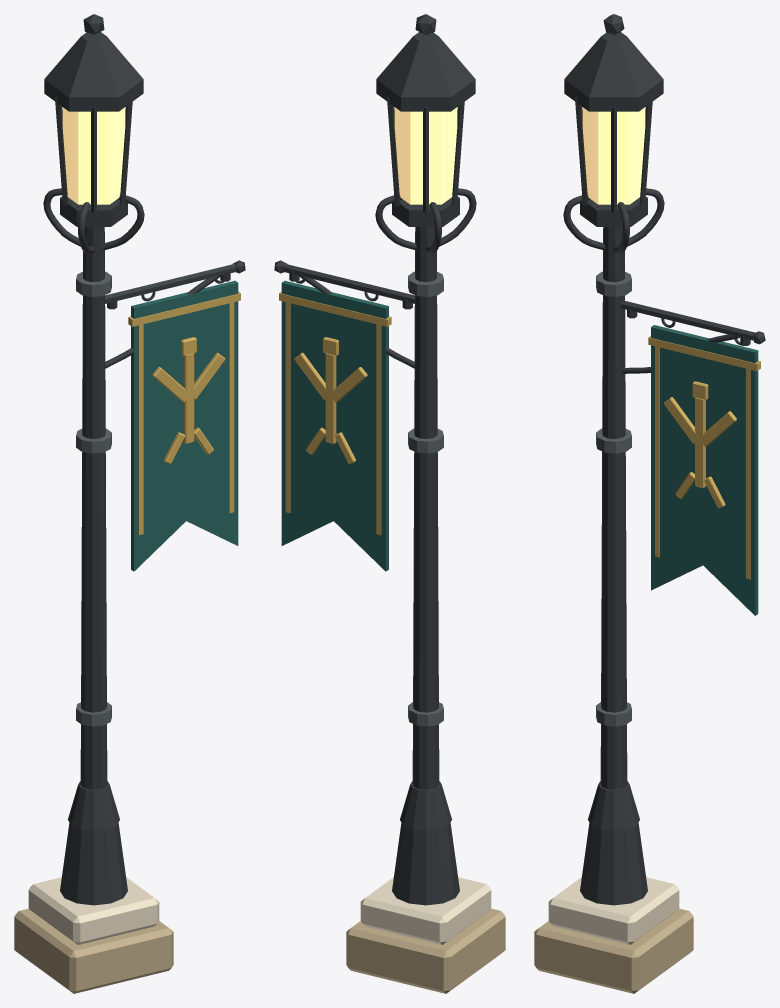
3 views of the same model, side by side, from view 1: azimuth 30°, elevation 25°; view 2: azimuth 150°, elevation 25°; view 3: azimuth 330°, elevation 25° (orthographic).
Parts seen in each view (by area): view 1: square_iron, cloth_banner, square_limestone_shade, banner_emblem, square_limestone_pale, square_lamp_glass, square_iron_light; view 2: square_iron, cloth_banner, square_limestone_shade, banner_emblem, square_limestone_pale, square_lamp_glass, square_iron_light; view 3: square_iron, cloth_banner, square_limestone_shade, banner_emblem, square_limestone_pale, square_lamp_glass, square_iron_light.
Boxes of the visible parts, <box> form: square_iron: <box>43,14,245,905</box>; cloth_banner: <box>131,280,238,571</box>; square_limestone_shade: <box>14,908,173,993</box>; banner_emblem: <box>128,291,240,535</box>; square_limestone_pale: <box>28,877,159,944</box>; square_lamp_glass: <box>62,107,125,204</box>; square_iron_light: <box>76,271,111,726</box>; square_iron: <box>274,14,476,905</box>; cloth_banner: <box>281,280,388,571</box>; square_limestone_shade: <box>346,908,505,993</box>; banner_emblem: <box>279,291,391,535</box>; square_limestone_pale: <box>360,877,491,944</box>; square_lamp_glass: <box>394,107,457,204</box>; square_iron_light: <box>408,271,443,726</box>; square_iron: <box>563,14,765,905</box>; cloth_banner: <box>651,325,758,615</box>; square_limestone_shade: <box>534,908,693,993</box>; banner_emblem: <box>648,336,760,579</box>; square_limestone_pale: <box>548,877,679,944</box>; square_lamp_glass: <box>582,107,645,204</box>; square_iron_light: <box>596,271,631,726</box>.
Bounding box in the file's own units: 0.895 × 4 × 0.46.
